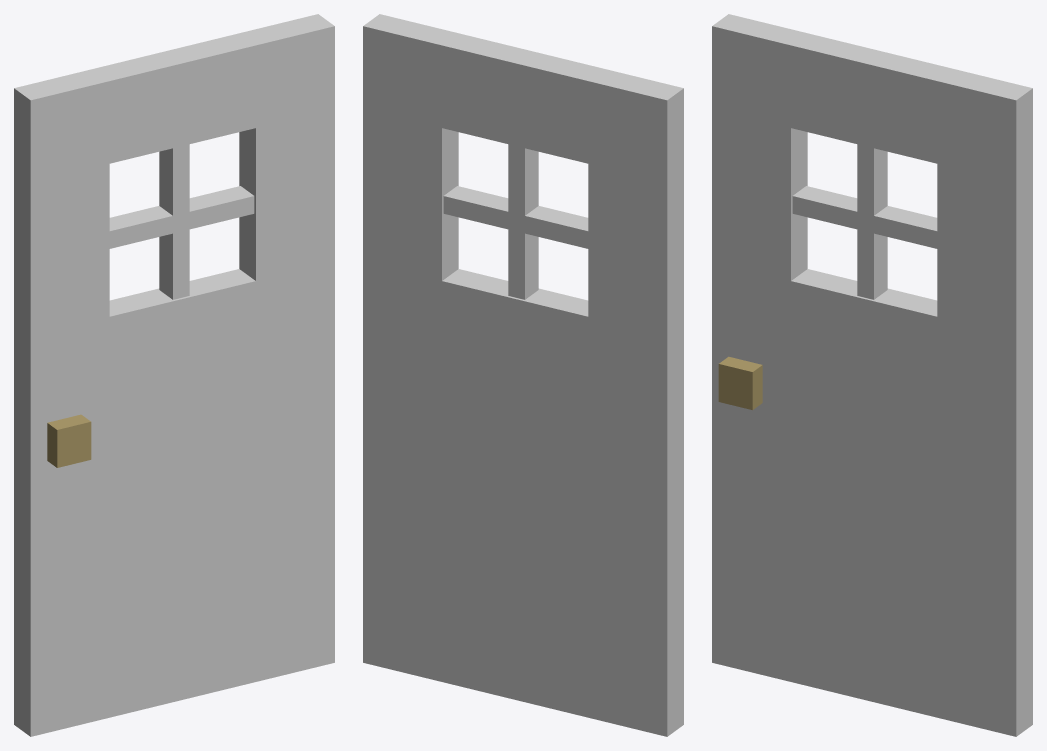
The model's file is quaternius-cube-world-door-closed.glb.
3 views of the same model, side by side, from view 1: azimuth 30°, elevation 25°; view 2: azimuth 150°, elevation 25°; view 3: azimuth 330°, elevation 25° (orthographic).
Parts seen in each view (by area): view 1: Door_Closed; view 2: Door_Closed; view 3: Door_Closed.
Boxes of the visible parts, x1,y1,x2,y2 form: Door_Closed: (14, 14, 334, 736); Door_Closed: (363, 14, 683, 736); Door_Closed: (712, 14, 1032, 736).
Bounding box in the file's own units: 2 × 4 × 0.3023.
Materials: 2 (1 with a texture image).
